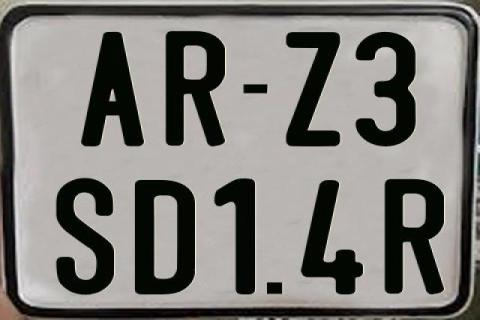0: (353, 30, 414, 150), (300, 178, 362, 294), (214, 177, 260, 297)
A: (78, 31, 141, 145)
D: (132, 177, 196, 293)
R: (385, 177, 450, 297), (164, 31, 228, 148)
S: (54, 177, 114, 297)
Z: (286, 31, 344, 149)
